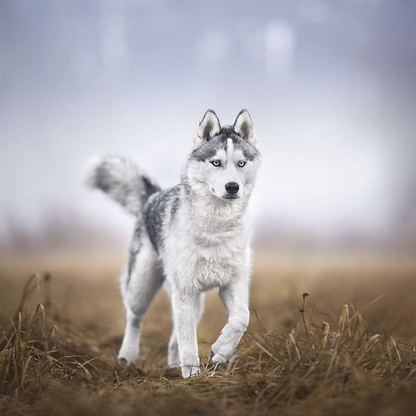husky: (77, 104, 268, 383)
